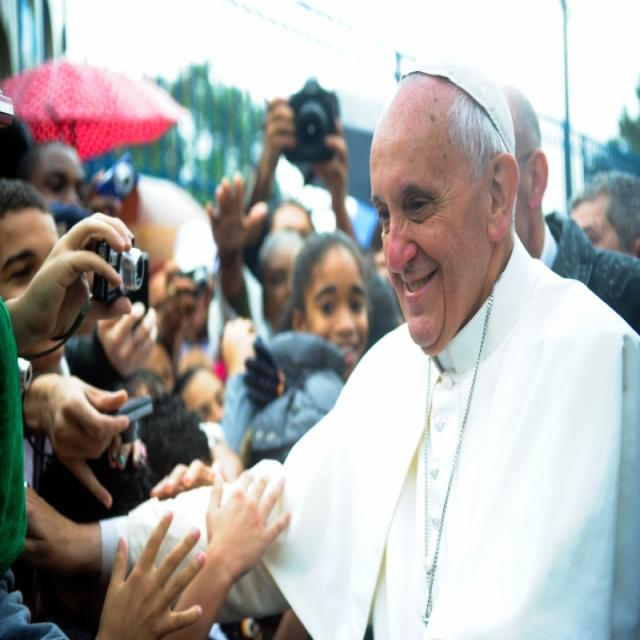body: (11, 21, 639, 638), (0, 131, 147, 639), (148, 232, 286, 640), (491, 79, 639, 337), (208, 80, 390, 234), (272, 228, 375, 388), (565, 166, 640, 264)
